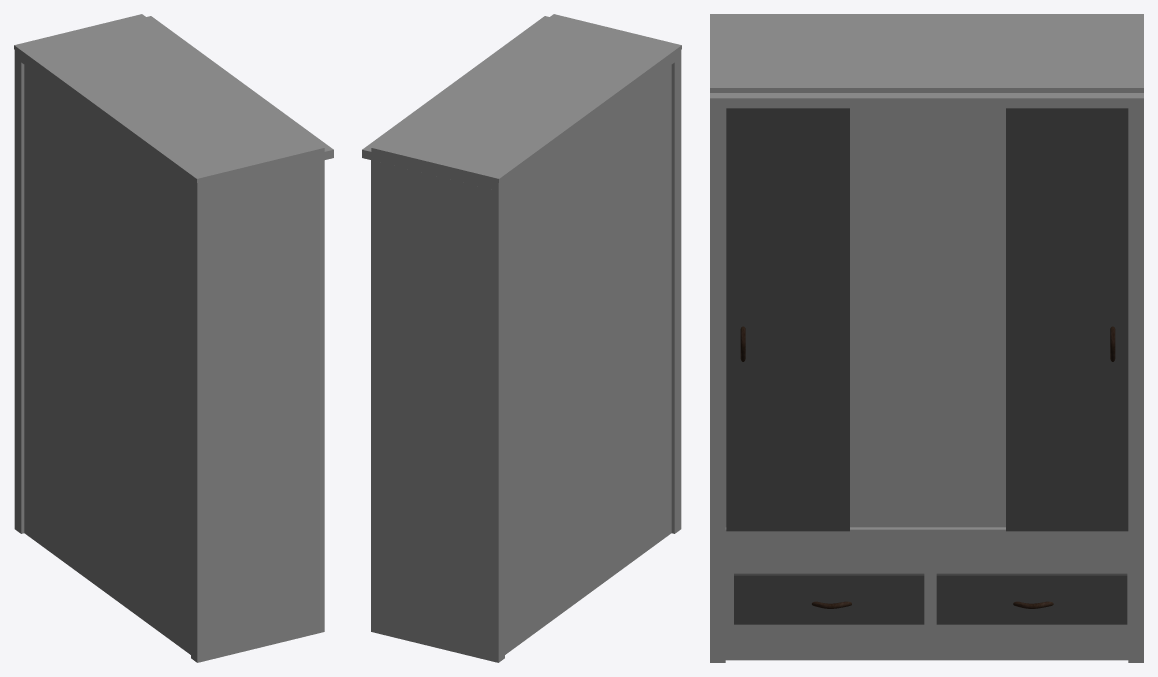
File: cupboard_steel.glb
3 views of the same model, side by side, from view 1: azimuth 30°, elevation 25°; view 2: azimuth 150°, elevation 25°; view 3: azimuth 270°, elevation 25° (orthographic). The views are drawn at different scales.
Visible parts, largest first — view 1: Cube; view 2: Cube; view 3: Cube, Cube.001.
Boxes of the visible parts, x1,y1,x2,y2 form: Cube: (14,14,333,662); Cube: (362,14,681,662); Cube: (710,14,1143,662); Cube.001: (726,108,1128,624).
Size of the model in its own units: 1.88 by 6.35 by 4.35.
3 materials, 1 textured.
